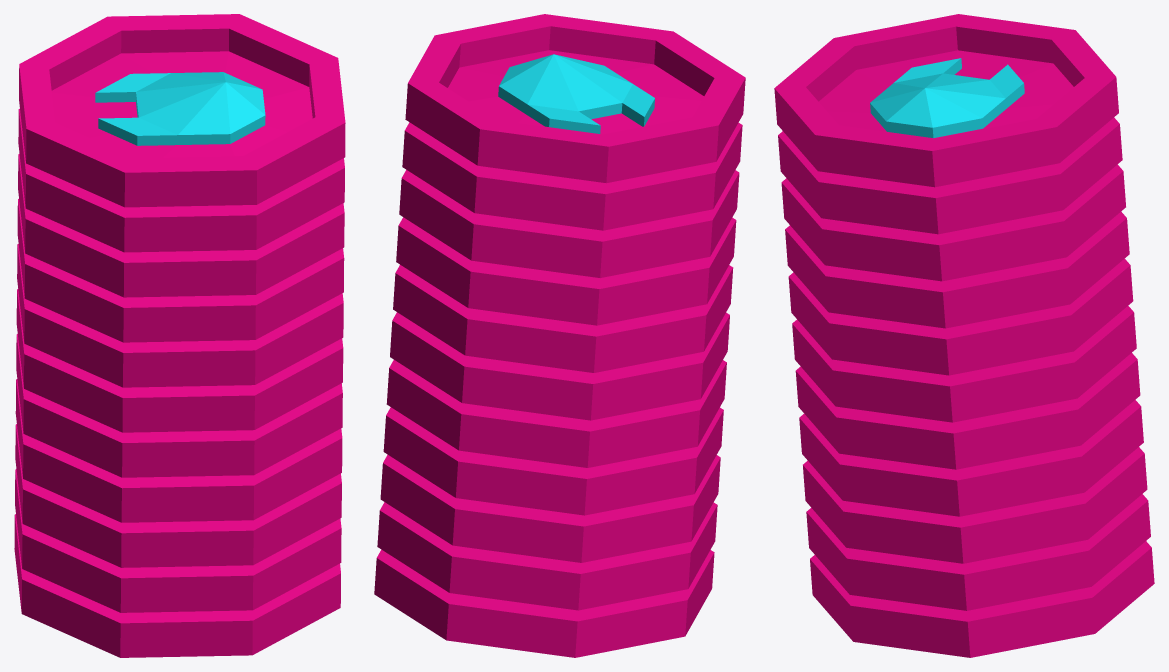
The model's file is meelk_tokentower5.glb.
3 views of the same model, side by side, from view 1: azimuth 30°, elevation 25°; view 2: azimuth 150°, elevation 25°; view 3: azimuth 270°, elevation 25° (orthographic).
Parts seen in each view (by area): view 1: Cylinder.022; view 2: Cylinder.022; view 3: Cylinder.022.
Part boxes in pixels (x1=…): Cylinder.022: x1=14, y1=14, x2=345, y2=657; Cylinder.022: x1=374, y1=14, x2=745, y2=657; Cylinder.022: x1=774, y1=14, x2=1154, y2=657.
Bounding box in the file's own units: 0.6951 × 1.11 × 0.7354.
